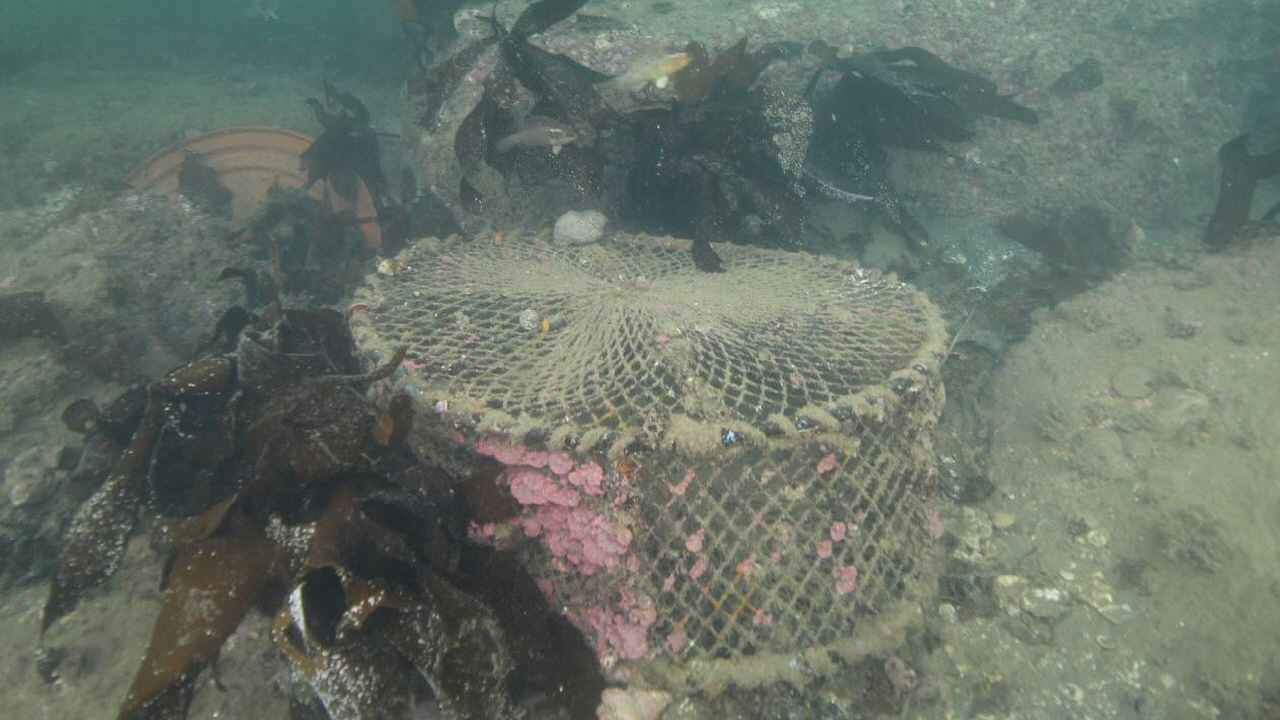circular fish trap: (347, 229, 949, 694)
